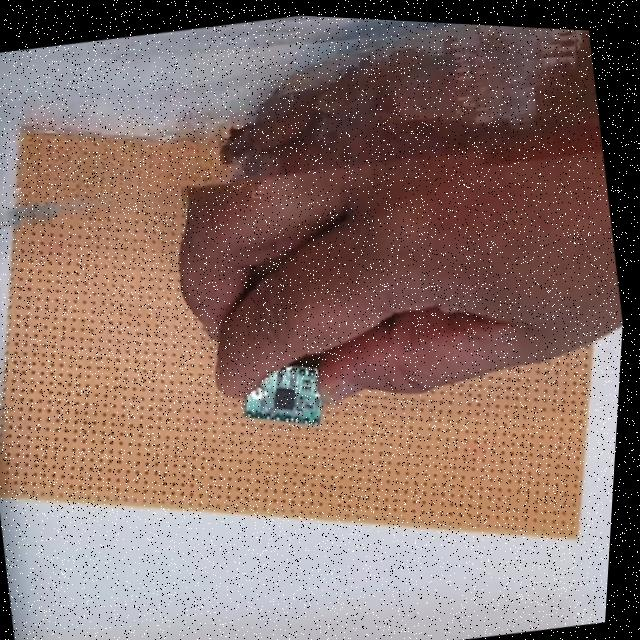Chip: (233, 351, 328, 437)
